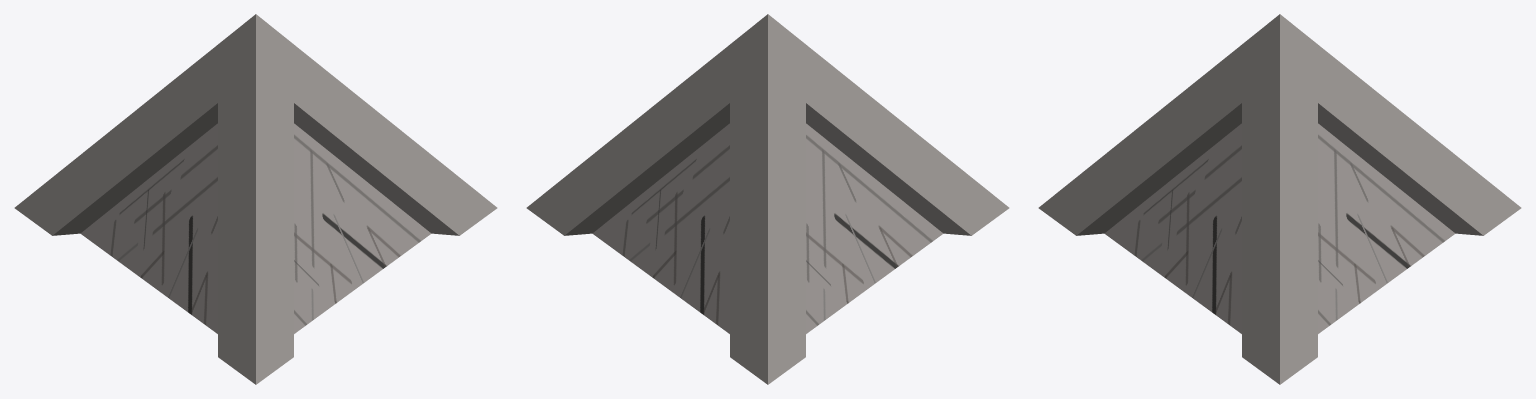
The model's file is triangle_piece.fbx.
3 views of the same model, side by side, from view 1: azimuth 30°, elevation 25°; view 2: azimuth 150°, elevation 25°; view 3: azimuth 270°, elevation 25° (orthographic).
Visible parts, largest first — view 1: polySurface2; view 2: polySurface2; view 3: polySurface2.
Part boxes in pixels (bbox=[...]): polySurface2: bbox=[14, 14, 497, 384]; polySurface2: bbox=[526, 14, 1009, 384]; polySurface2: bbox=[1038, 14, 1521, 384].
Size of the model in its own units: 1.54 by 1.03 by 1.78.
